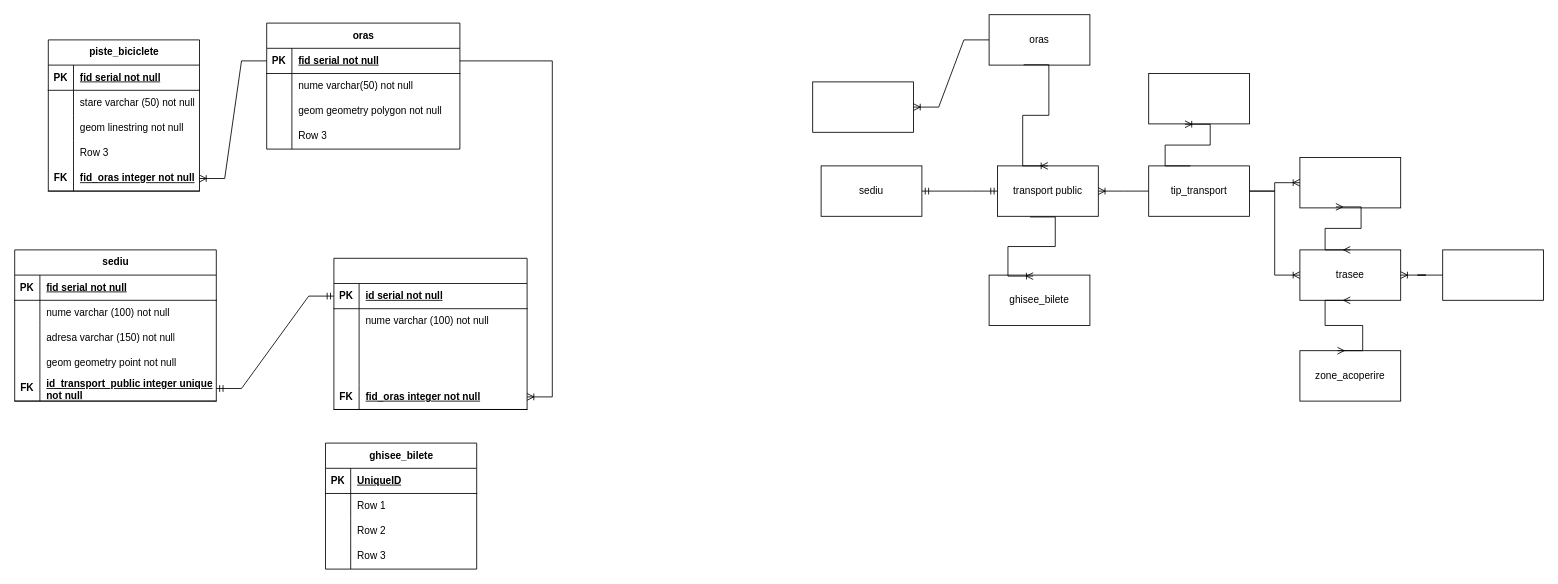
This 1558x584 diagram has some shape labels left out. Each missing label, with the box of its shape:
orar: (1442, 249, 1544, 300)
piste biciclete: (812, 81, 914, 132)
statie_transport: (1299, 157, 1401, 208)
transport_public: (333, 257, 527, 410)
vehicul: (1148, 73, 1250, 124)
